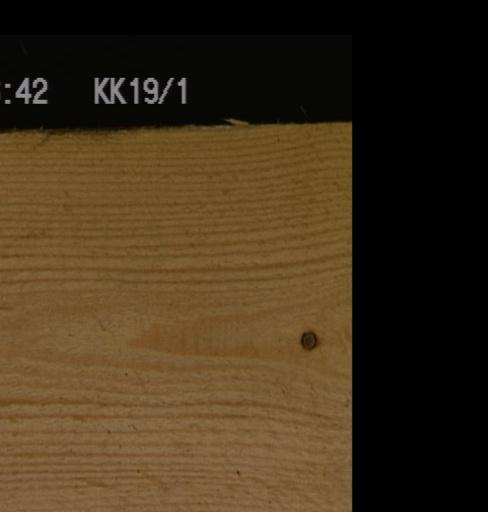dry_knot: (298, 328, 318, 351)
